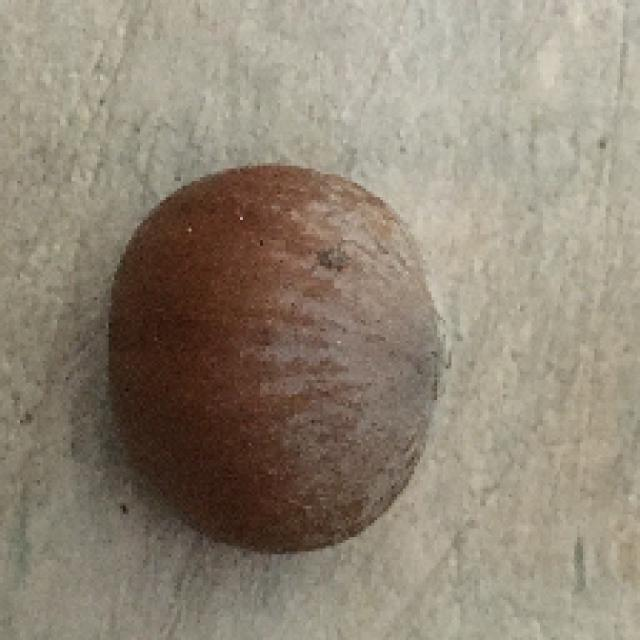qualityHazelnut: (99, 159, 444, 552)
